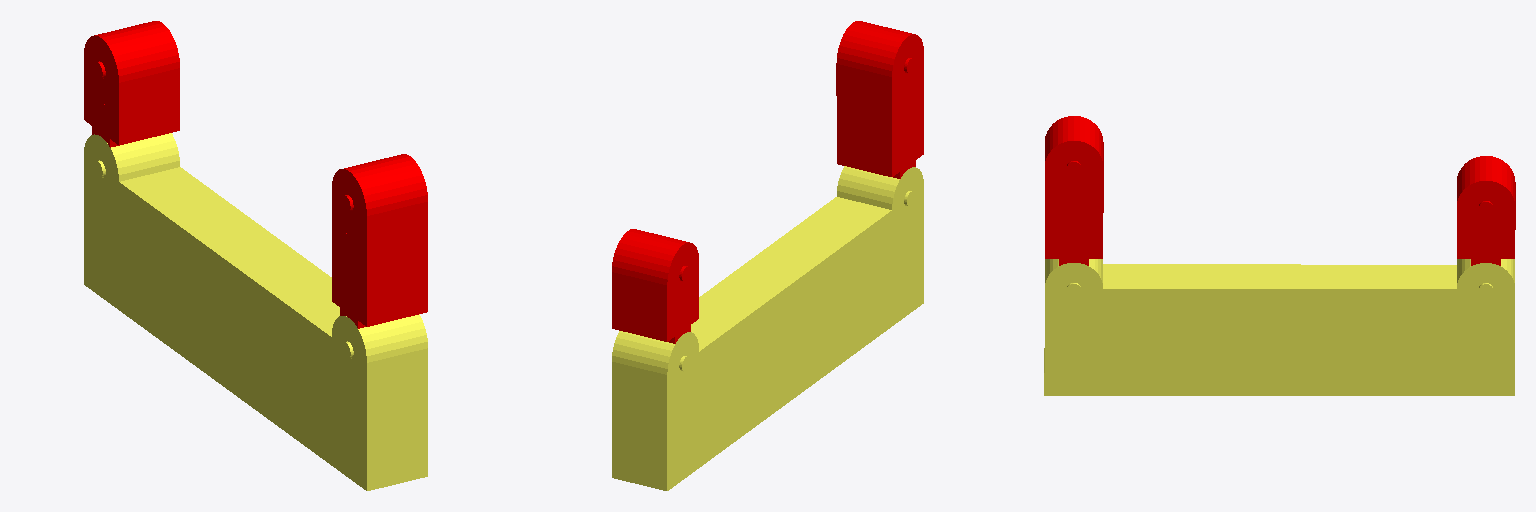
URDF robot description (test_gripper):
?<?xml version="1.0"?>
<robot name="test_gripper">

  <link name="body_palm_lpinvrpin">
    <visual>
      <origin rpy="1.57 0 0" xyz="0 0 0"/>
      <geometry>
        <mesh filename="objFiles/body_palm_lpinvrpin.obj" scale="1 1 1"/>
      </geometry>
       <material name="yellow">
        <color rgba="1 1 0.4 1"/>
      </material>
    </visual>
    <collision>
      <origin rpy="1.57 0 0" xyz="0 0 0"/>
      <geometry>
	 	<mesh filename="objFiles/body_palm_lpinvrpin_collision.obj" scale="1 1 1"/>
      </geometry>
    </collision>
    <inertial>
      <mass value="0.5"/>
      <inertia ixx="1.0" ixy="0.0" ixz="0.0" iyy="1.0" iyz="0.0" izz="1.0"/>
    </inertial>
  </link>



  <joint name="left_prox_joint" type="revolute">
    <axis xyz="1 0 0"/>
    <limit effort="1000.0" lower="-3.14" upper="3.14" velocity="0.5"/>
    <origin rpy="0 0 0" xyz="0.0 -0.07 0"/>
    <parent link="body_palm_lpinvrpin"/>
    <child link="body_l_prox_pinvspring"/>
  </joint>


  <link name="body_l_prox_pinvspring">
    <visual>
      <origin rpy="1.57 0 0" xyz="0 0 0"/>
      <geometry>
        <mesh filename="objFiles/body_l_prox_pinvspring.obj" scale="1 1 1"/>
      </geometry>
       <material name="red">
        <color rgba="1 0 0 1"/>
      </material>
    </visual>
    <collision>
      <origin rpy="1.57 0 0" xyz="0 0 0"/>
      <geometry>
	 	<mesh filename="objFiles/body_l_prox_pinvspring_collision.obj" scale="1 1 1"/>
      </geometry>
    </collision>
    <inertial>
      <mass value="0.5"/>
      <inertia ixx="1.0" ixy="0.0" ixz="0.0" iyy="1.0" iyz="0.0" izz="1.0"/>
    </inertial>
  </link>



  <joint name="right_prox_joint" type="revolute">
    <axis xyz="1 0 0"/>
    <limit effort="1000.0" lower="-3.14" upper="3.14" velocity="0.5"/>
    <origin rpy="0 0 0" xyz="0.0 0.07 0"/>
    <parent link="body_palm_lpinvrpin"/>
    <child link="body_r_prox_pinvpin"/>
  </joint>


  <link name="body_r_prox_pinvpin">
    <visual>
      <origin rpy="1.57 0 0" xyz="0 0.0 0"/>
      <geometry>
        <mesh filename="objFiles/body_r_prox_pinvpin.obj" scale="1 1 1"/>
      </geometry>
       <material name="red">
        <color rgba="1 0 0 1"/>
      </material>
    </visual>
    <collision>
      <origin rpy="1.57 0 0" xyz="0 0 0"/>
      <geometry>
	 	<mesh filename="objFiles/body_r_prox_pinvpin_collision.obj" scale="1 1 1"/>
      </geometry>
    </collision>
    <inertial>
      <mass value="0.5"/>
      <inertia ixx="1.0" ixy="0.0" ixz="0.0" iyy="1.0" iyz="0.0" izz="1.0"/>
    </inertial>
  </link>
</robot>

--- Render facts (derived) ---
Views: 3 orthographic renders of the robot side by side, from view 1: azimuth 30°, elevation 25°; view 2: azimuth 150°, elevation 25°; view 3: azimuth 270°, elevation 25°.
Robot: test_gripper — 3 links, 2 joints (2 revolute); root link body_palm_lpinvrpin; default pose: every joint at zero.
Visible links, largest first — view 1: body_palm_lpinvrpin, body_l_prox_pinvspring, body_r_prox_pinvpin; view 2: body_palm_lpinvrpin, body_l_prox_pinvspring, body_r_prox_pinvpin; view 3: body_palm_lpinvrpin, body_l_prox_pinvspring, body_r_prox_pinvpin.
Link boxes in pixels (bbox=[...]): body_palm_lpinvrpin: bbox=[84, 133, 427, 490]; body_l_prox_pinvspring: bbox=[332, 154, 427, 328]; body_r_prox_pinvpin: bbox=[84, 21, 179, 147]; body_palm_lpinvrpin: bbox=[612, 166, 923, 490]; body_l_prox_pinvspring: bbox=[836, 21, 923, 178]; body_r_prox_pinvpin: bbox=[612, 229, 698, 343]; body_palm_lpinvrpin: bbox=[1044, 259, 1514, 395]; body_l_prox_pinvspring: bbox=[1045, 116, 1103, 265]; body_r_prox_pinvpin: bbox=[1457, 156, 1515, 265].
Size in the robot's own frame: 0.022 by 0.1601 by 0.0958 metres.
3 mesh visuals loaded from 3 distinct referenced files (3 OBJ).
